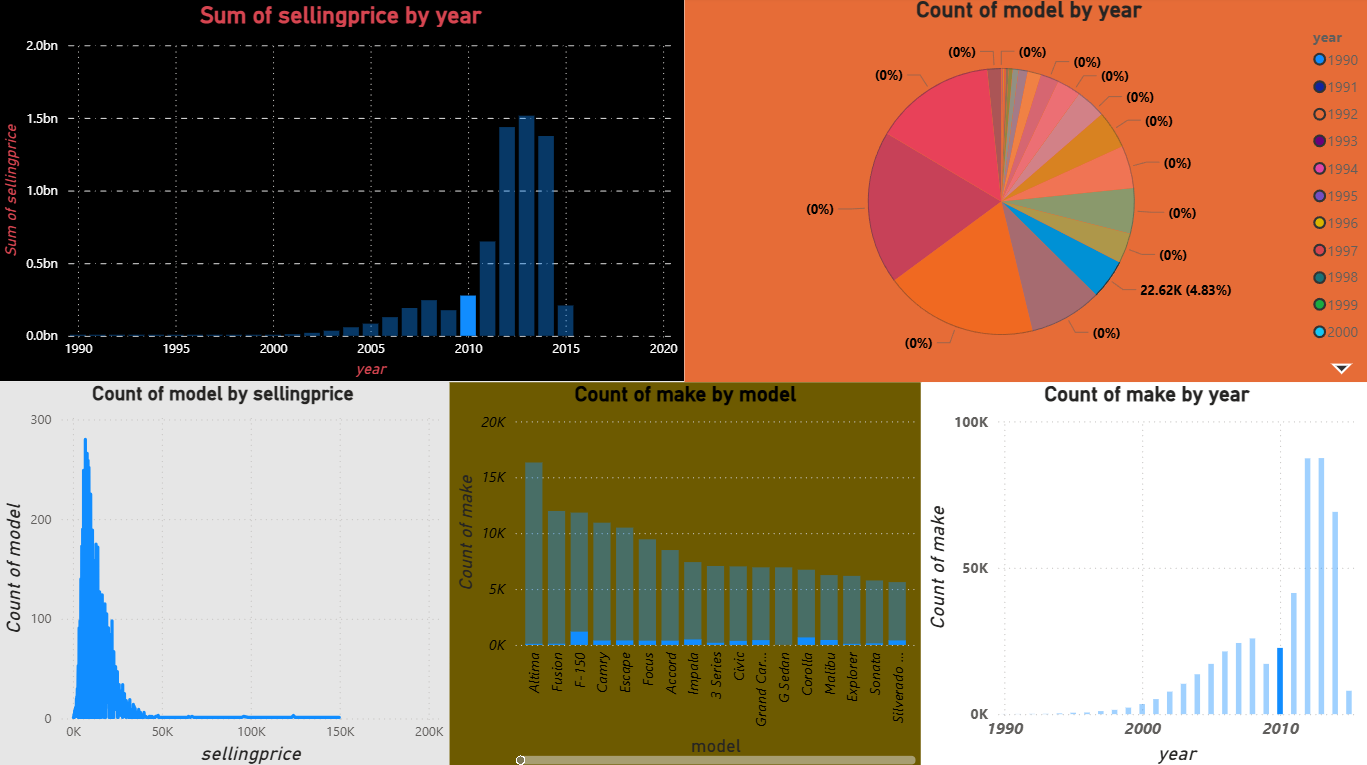

The dashboard page shown, as its layout file describes it:
{"tool":"powerbi","page":{"name":"Page 1","canvas":[1280,720],"ordinal":0},"visuals":[{"type":"columnChart","fields":{"Category":["cleaned_data.year"],"Y":["Sum(cleaned_data.sellingprice)"]},"box":[0,0,639.5,359.5],"z":0},{"type":"pieChart","fields":{"Y":["CountNonNull(cleaned_data.model)"],"Series":["cleaned_data.year"]},"box":[639.5,0,640.8,359.5],"z":1000},{"type":"lineChart","fields":{"Category":["cleaned_data.sellingprice"],"Y":["CountNonNull(cleaned_data.model)"]},"box":[0,359.5,420.7,360.7],"z":2000},{"type":"lineStackedColumnComboChart","fields":{"Category":["cleaned_data.model"],"Y":["CountNonNull(cleaned_data.make)"]},"box":[420.7,359.5,439,360.7],"z":3000},{"type":"ribbonChart","fields":{"Y":["CountNonNull(cleaned_data.make)"],"Category":["cleaned_data.year"]},"box":[859.7,359.5,420.7,360.7],"z":4000}]}

Visuals, with their boxes in screenshot pixels (x1, y1, x2, y2), scaled from the page's 1280x720 canvas onto the 1367x765 screenshot:
columnChart - cleaned_data.year x Sum(cleaned_data.sellingprice): <region>0, 0, 683, 382</region>
pieChart - CountNonNull(cleaned_data.model) x cleaned_data.year: <region>683, 0, 1366, 382</region>
lineChart - cleaned_data.sellingprice x CountNonNull(cleaned_data.model): <region>0, 382, 449, 764</region>
lineStackedColumnComboChart - cleaned_data.model x CountNonNull(cleaned_data.make): <region>449, 382, 918, 764</region>
ribbonChart - CountNonNull(cleaned_data.make) x cleaned_data.year: <region>918, 382, 1366, 764</region>
